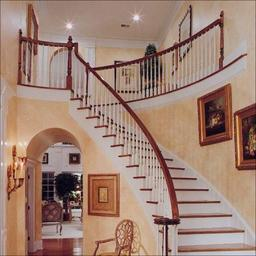Escaleras: (66, 43, 254, 254)
